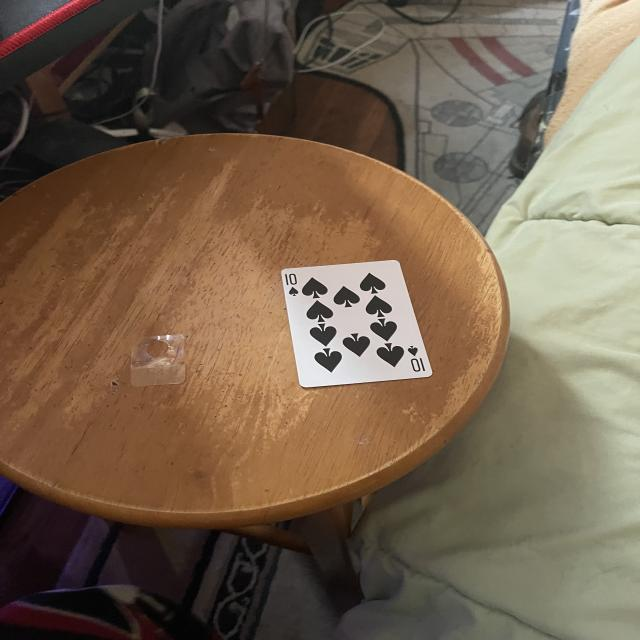10 of spades: (281, 257, 440, 391)
